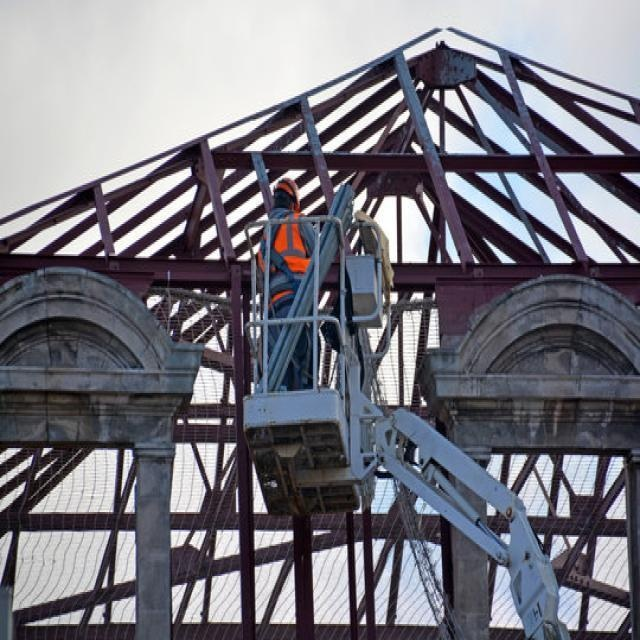Arnes_seguridad: (256, 207, 314, 309)
